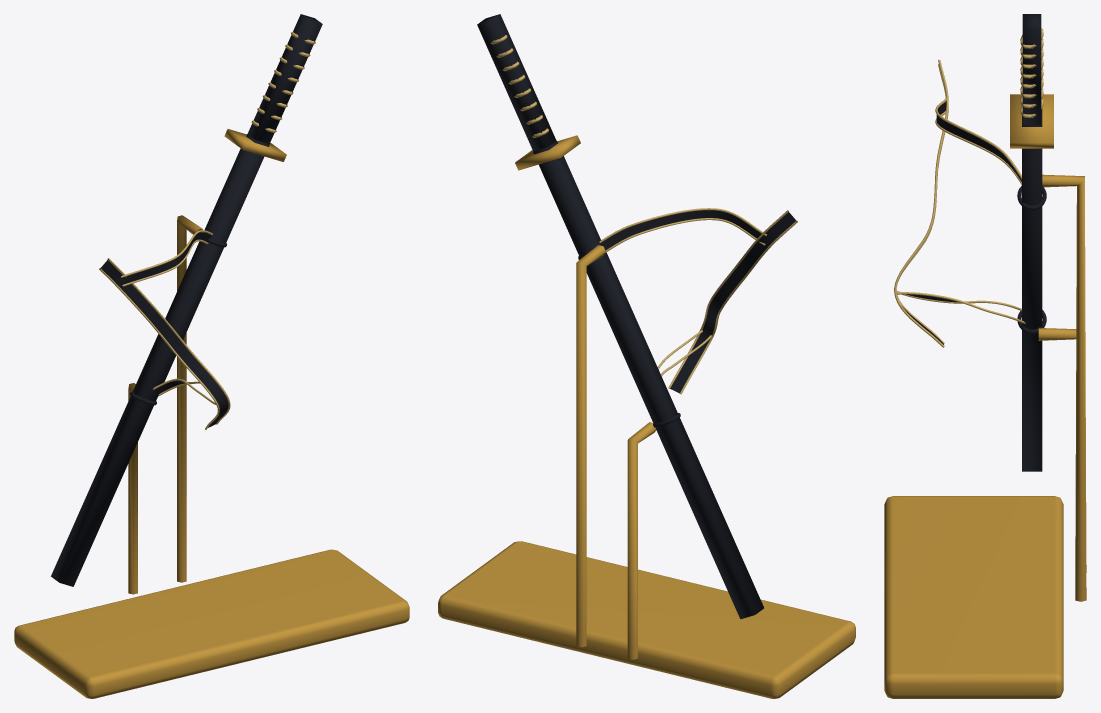
Rendered from rain.acc.back-katana.glb.
3 views of the same model, side by side, from view 1: azimuth 30°, elevation 25°; view 2: azimuth 150°, elevation 25°; view 3: azimuth 270°, elevation 25° (orthographic). The views are drawn at different scales.
Visible parts, largest first — view 1: stand_base, Foundation.Katana.Scabbard, Foundation.Katana.Handle, stand_cradle.001, Foundation.Katana.DiagonalHarness, stand_cradle, Foundation.Katana.Guard, Foundation.Katana.UpperHolster; view 2: stand_base, Foundation.Katana.Scabbard, stand_cradle.001, Foundation.Katana.Handle, stand_cradle, Foundation.Katana.DiagonalHarness, Foundation.Katana.UpperHolster, Foundation.Katana.Guard; view 3: stand_base, Foundation.Katana.Scabbard, stand_cradle.001, Foundation.Katana.Handle, Foundation.Katana.Guard, Foundation.Katana.DiagonalHarness.Stitch-1, Foundation.Katana.UpperHolster, stand_cradle, Foundation.Katana.LowerHolster.Stitch-1, Foundation.Katana.UpperHolster.Stitch-1, Foundation.Katana.DiagonalHarness.Stitch1.
Boxes of the visible parts, x1,y1,x2,y2 form: stand_base: [14, 549, 409, 698]; Foundation.Katana.Scabbard: [51, 134, 269, 586]; Foundation.Katana.Handle: [247, 14, 322, 143]; stand_cradle.001: [177, 215, 202, 582]; Foundation.Katana.DiagonalHarness: [99, 259, 228, 427]; stand_cradle: [128, 383, 137, 594]; Foundation.Katana.Guard: [224, 129, 286, 161]; Foundation.Katana.UpperHolster: [122, 232, 211, 284]; stand_base: [438, 541, 855, 698]; Foundation.Katana.Scabbard: [533, 141, 763, 619]; stand_cradle.001: [576, 245, 605, 647]; Foundation.Katana.Handle: [477, 14, 556, 151]; stand_cradle: [627, 422, 655, 659]; Foundation.Katana.DiagonalHarness: [669, 211, 797, 393]; Foundation.Katana.UpperHolster: [600, 210, 767, 249]; Foundation.Katana.Guard: [515, 135, 580, 170]; stand_base: [884, 496, 1063, 698]; Foundation.Katana.Scabbard: [1022, 109, 1042, 471]; stand_cradle.001: [1042, 174, 1086, 601]; Foundation.Katana.Handle: [1022, 14, 1041, 124]; Foundation.Katana.Guard: [1010, 94, 1053, 148]; Foundation.Katana.DiagonalHarness.Stitch-1: [894, 59, 948, 347]; Foundation.Katana.UpperHolster: [936, 101, 1021, 181]; stand_cradle: [1038, 328, 1086, 572]; Foundation.Katana.LowerHolster.Stitch-1: [896, 292, 1025, 323]; Foundation.Katana.UpperHolster.Stitch-1: [935, 98, 1021, 179]; Foundation.Katana.DiagonalHarness.Stitch1: [894, 64, 948, 343].
Bounding box in the file's own units: 0.4456 × 0.75 × 0.2071.
